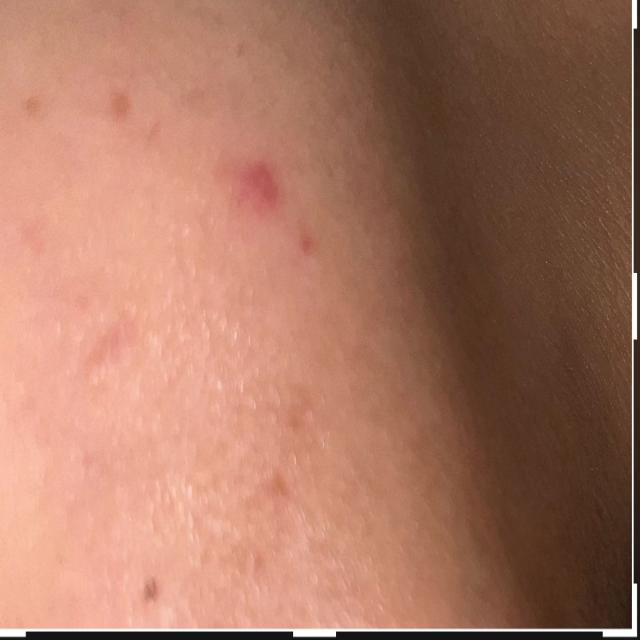papule: (212, 144, 345, 270)
